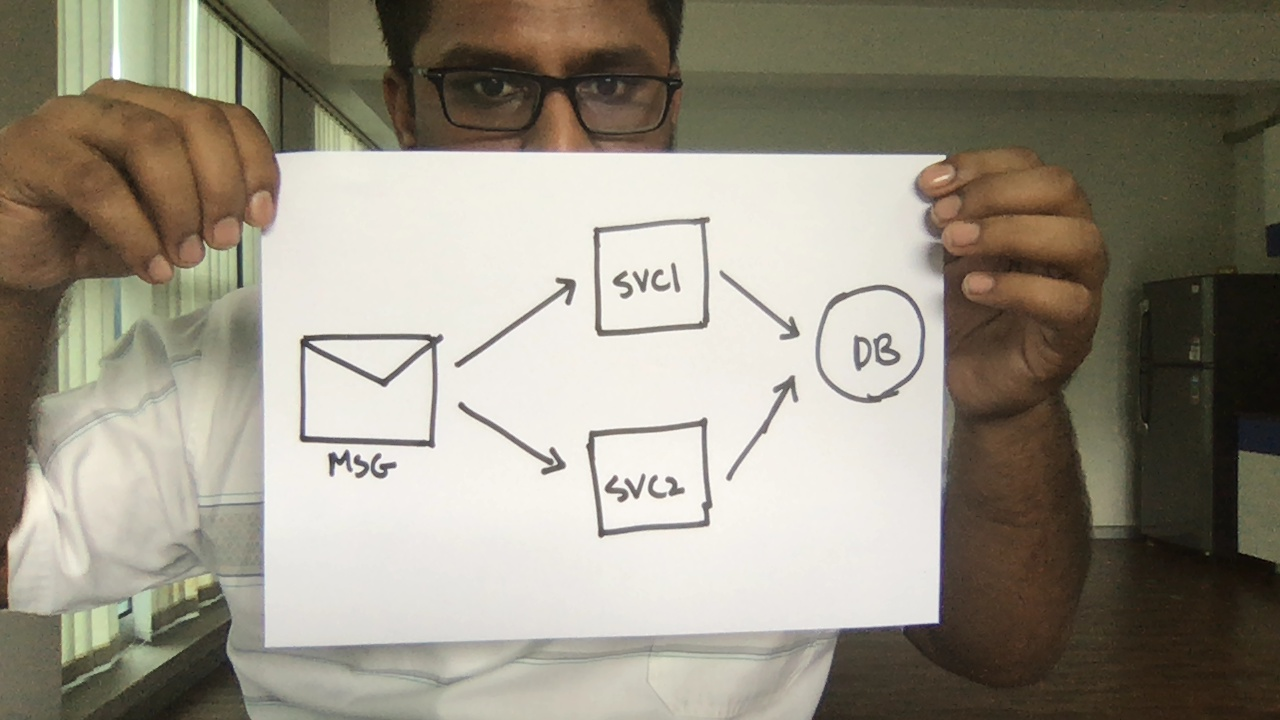arrow: (449, 272, 583, 375), (723, 366, 814, 490), (452, 392, 574, 482), (716, 269, 810, 348)
ec2: (585, 214, 719, 342), (583, 418, 717, 546)
sns: (290, 322, 451, 487)
